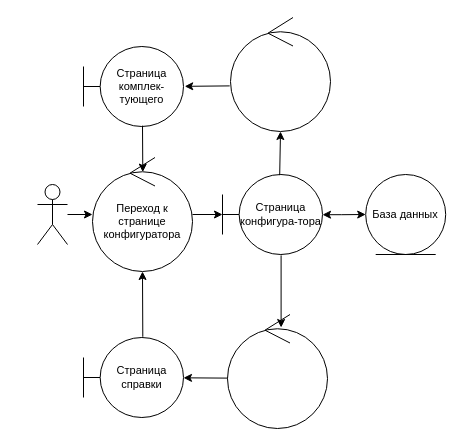
The diagram is 464 pixels wide and 446 high, and some of its shapes have lost their labels. Here are the shapes that lost their labels. From the top down, the centre of each, then its label:
At [280,74]: "Переход к станице комплектующего".
At [52,214]: "Пользователь".
At [277,371]: "Переход к станице справки".
